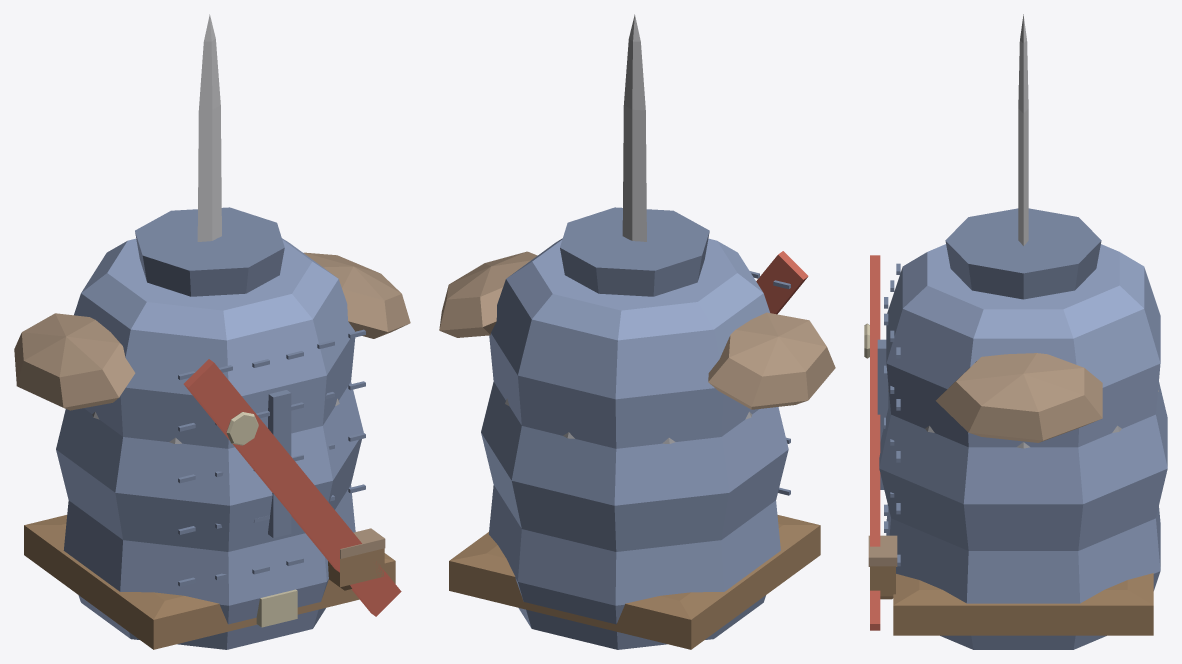
Rendered from footman.glb.
3 views of the same model, side by side, from view 1: azimuth 30°, elevation 25°; view 2: azimuth 150°, elevation 25°; view 3: azimuth 270°, elevation 25° (orthographic).
Visible parts, largest first — view 1: Torso, PauldronL, Weapon, PauldronR; view 2: Torso, PauldronL, Weapon, PauldronR; view 3: Torso, PauldronR, Weapon.
Boxes of the visible parts, x1=… form: Torso: x1=24, y1=207, x2=401, y2=649; PauldronL: x1=14, y1=313, x2=135, y2=410; Weapon: x1=197, y1=14, x2=221, y2=241; PauldronR: x1=304, y1=252, x2=410, y2=338; Torso: x1=449, y1=207, x2=820, y2=649; PauldronL: x1=708, y1=312, x2=835, y2=409; Weapon: x1=622, y1=14, x2=646, y2=241; PauldronR: x1=439, y1=251, x2=537, y2=337; Torso: x1=864, y1=208, x2=1167, y2=649; PauldronR: x1=935, y1=353, x2=1102, y2=442; Weapon: x1=1018, y1=14, x2=1028, y2=245.
Bounding box in the file's own units: 0.8179 × 1.24 × 0.5832.
